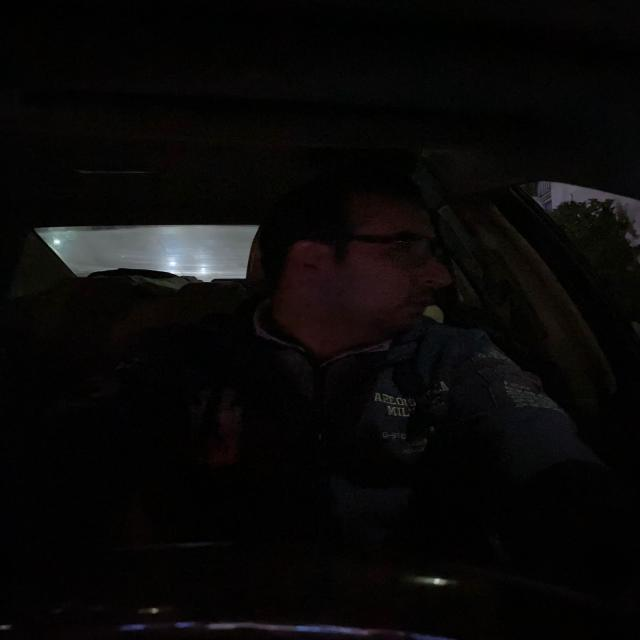LeftRight: (240, 165, 460, 343)
